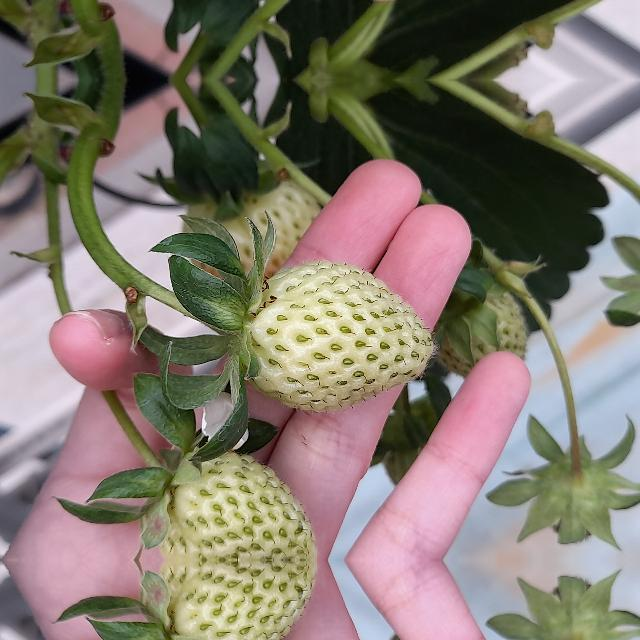Health_25: (249, 260, 433, 412), (150, 443, 324, 559), (150, 561, 324, 640), (432, 274, 536, 384)
